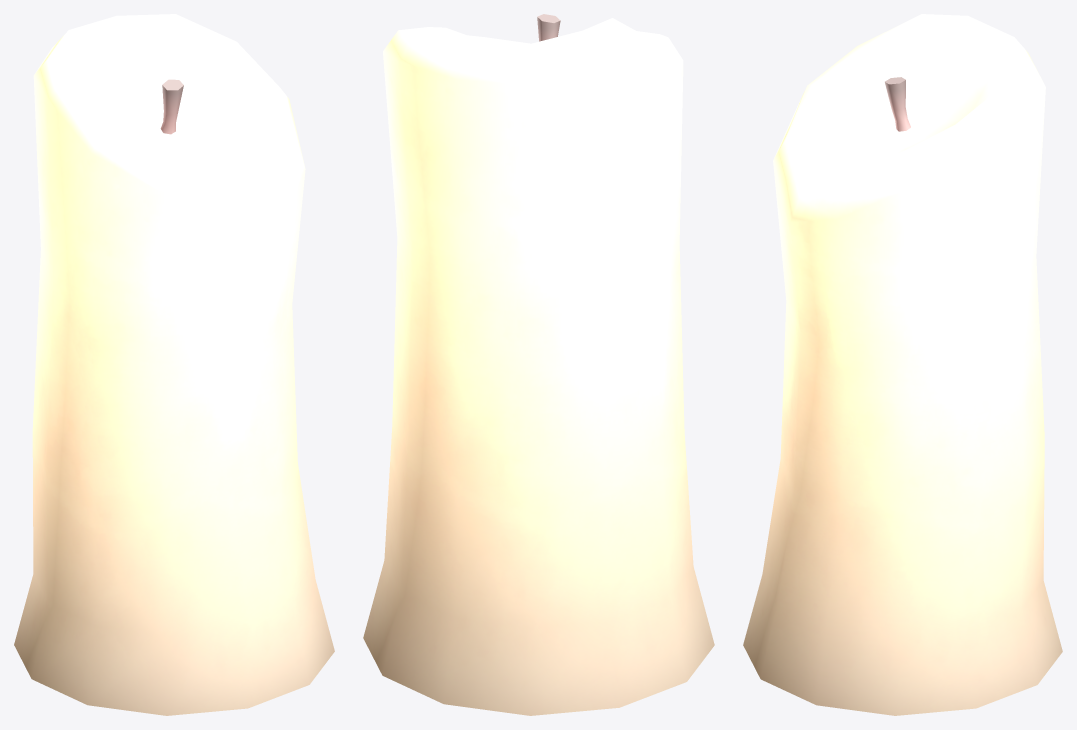
The model's file is SM_Medium_Candle.fbx.
3 renders of one model, left to right at view 1: azimuth 30°, elevation 25°; view 2: azimuth 150°, elevation 25°; view 3: azimuth 270°, elevation 25°, orthographic. The views are drawn at different scales.
Parts seen in each view (by area): view 1: SM_Medium_Candle_LOD0; view 2: SM_Medium_Candle_LOD0; view 3: SM_Medium_Candle_LOD0.
Boxes of the visible parts, box(x1,y1,x2,y2) form: SM_Medium_Candle_LOD0: box(14, 14, 334, 715); SM_Medium_Candle_LOD0: box(363, 14, 714, 715); SM_Medium_Candle_LOD0: box(743, 14, 1062, 715).
Size of the model in its own units: 12.63 by 12.63 by 25.72.
